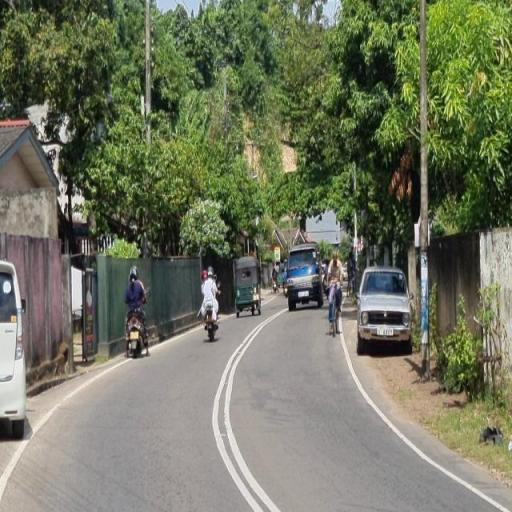double_white_line: (210, 308, 280, 510)
